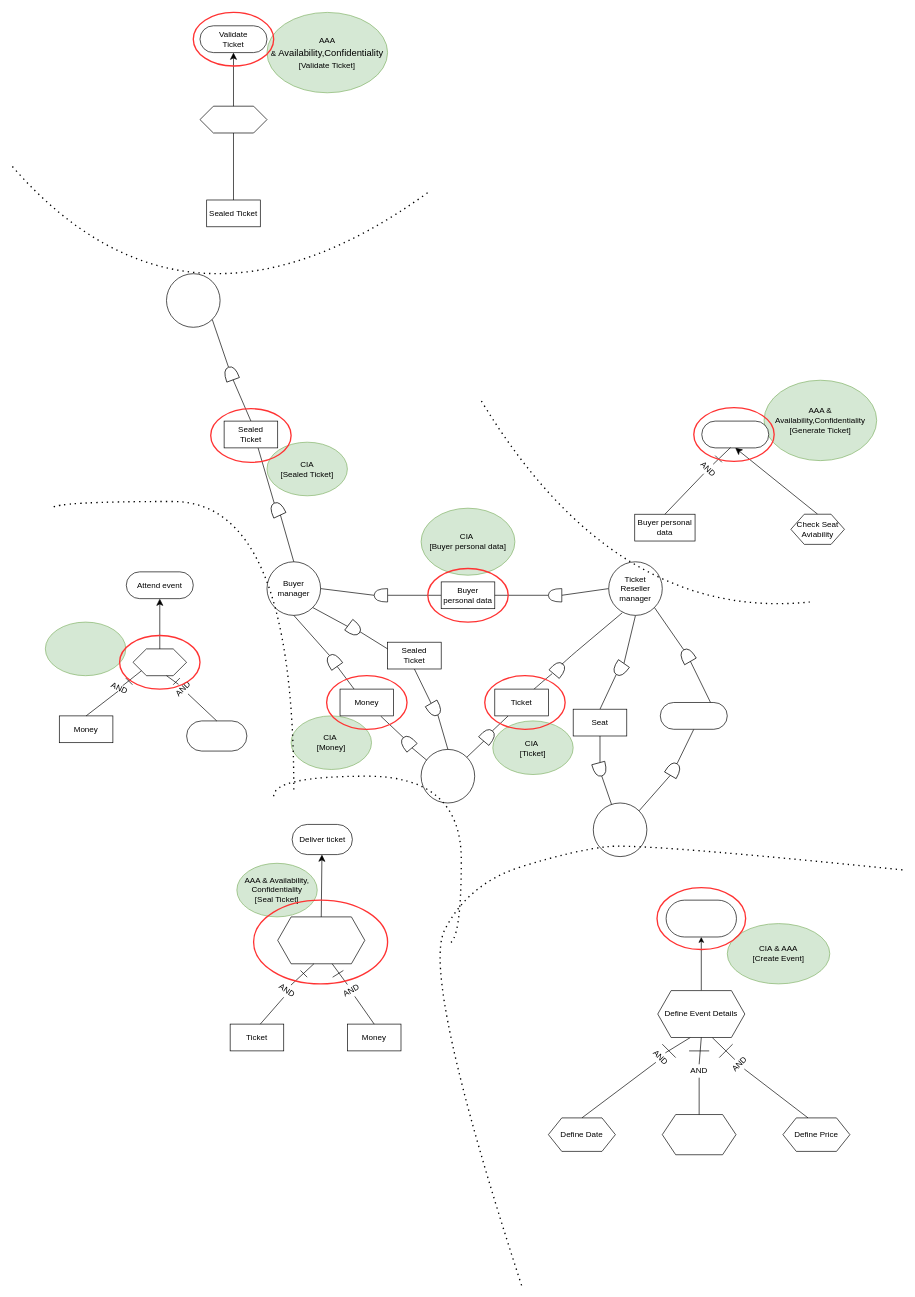
Some shapes in this 915 by 1297 pixel diagram are drawn without their labels. The centre of each missing label's shape, as x and y in pixels:
"AAA & Availability, Confidentiality [Buy Ticket]" goes at point (85, 648).
"Buy ticket" goes at point (159, 662).
"Choose Event" goes at point (216, 735).
"Control Ticket" goes at point (233, 119).
"Create Event" goes at point (700, 918).
"Define Number of Tickets" goes at point (699, 1134).
"Event Manager unit" goes at point (620, 829).
"Generate Ticket" goes at point (735, 434).
"Payment System" goes at point (447, 776).
"Seal ticket" goes at point (321, 940).
"Sell Ticket" goes at point (693, 715).
"Ticket Validator managar" goes at point (193, 300).
